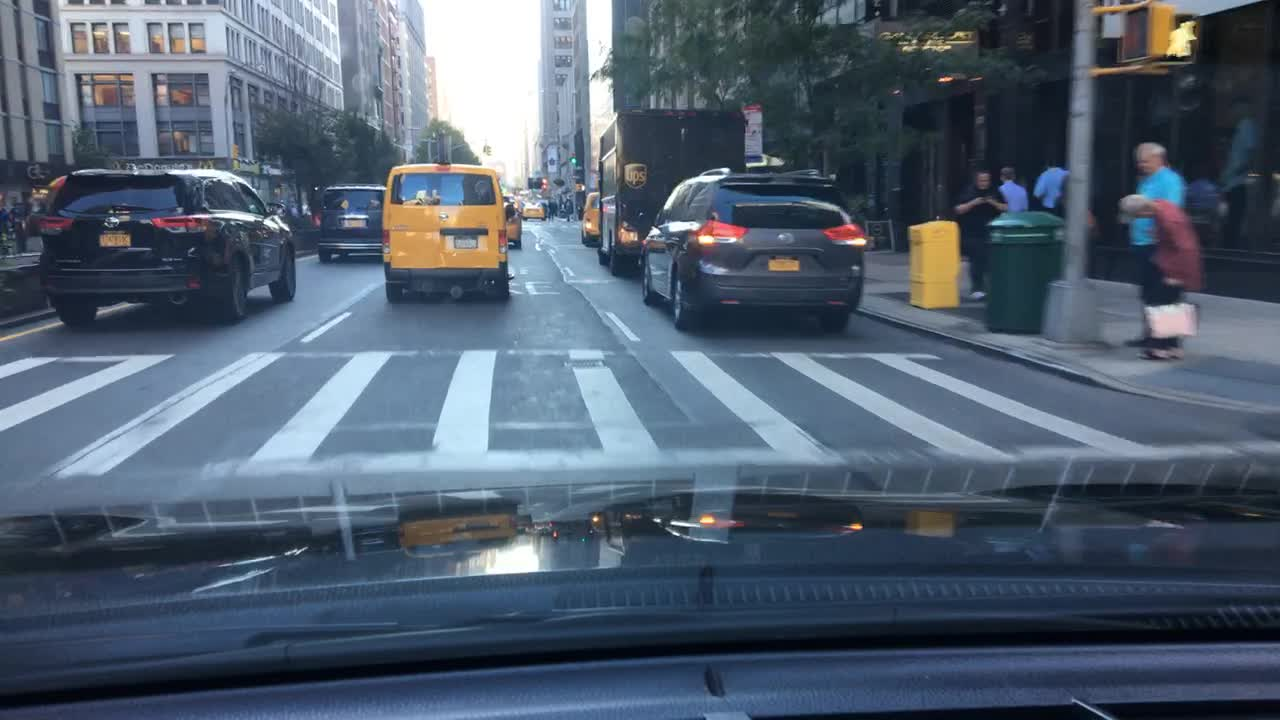car: (32, 159, 301, 325), (636, 163, 865, 329), (381, 160, 513, 300), (319, 180, 385, 266), (265, 197, 316, 251), (580, 185, 601, 248), (500, 197, 524, 248), (522, 203, 550, 223)
person: (1112, 138, 1204, 362), (1116, 194, 1195, 357), (959, 166, 1005, 298), (1224, 94, 1258, 208), (1030, 159, 1079, 224), (1189, 172, 1222, 230), (997, 166, 1027, 221), (11, 196, 31, 251), (0, 193, 11, 254), (302, 200, 313, 228), (562, 193, 570, 218)
traffic light: (1085, 1, 1197, 80), (231, 141, 237, 166), (482, 141, 491, 157), (567, 151, 576, 166)
truck: (593, 107, 755, 275)
